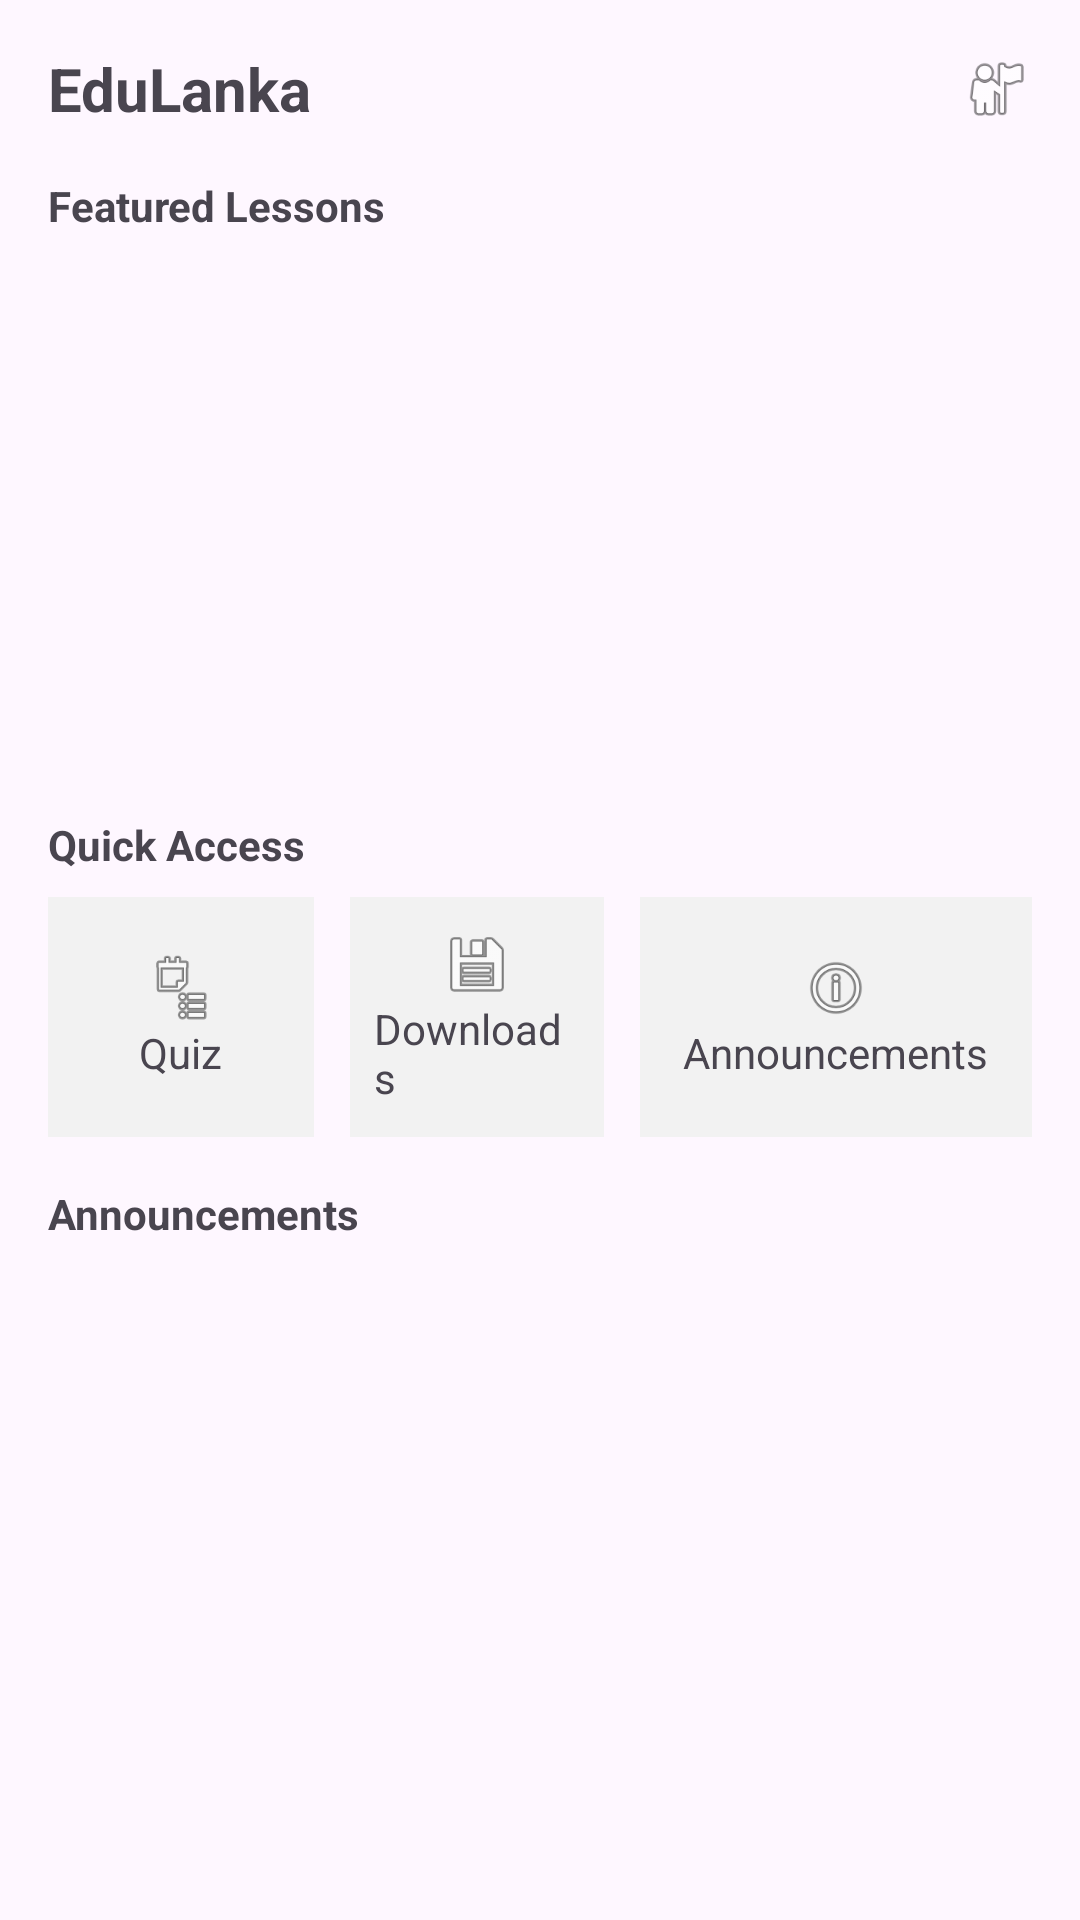

Locate icon controls on the screen. Image size 1080×1920, boxes as [x1, y1, x2, y2].
agenda: [156, 956, 207, 1020]
info details: [810, 962, 862, 1014]
save: [450, 937, 504, 992]
